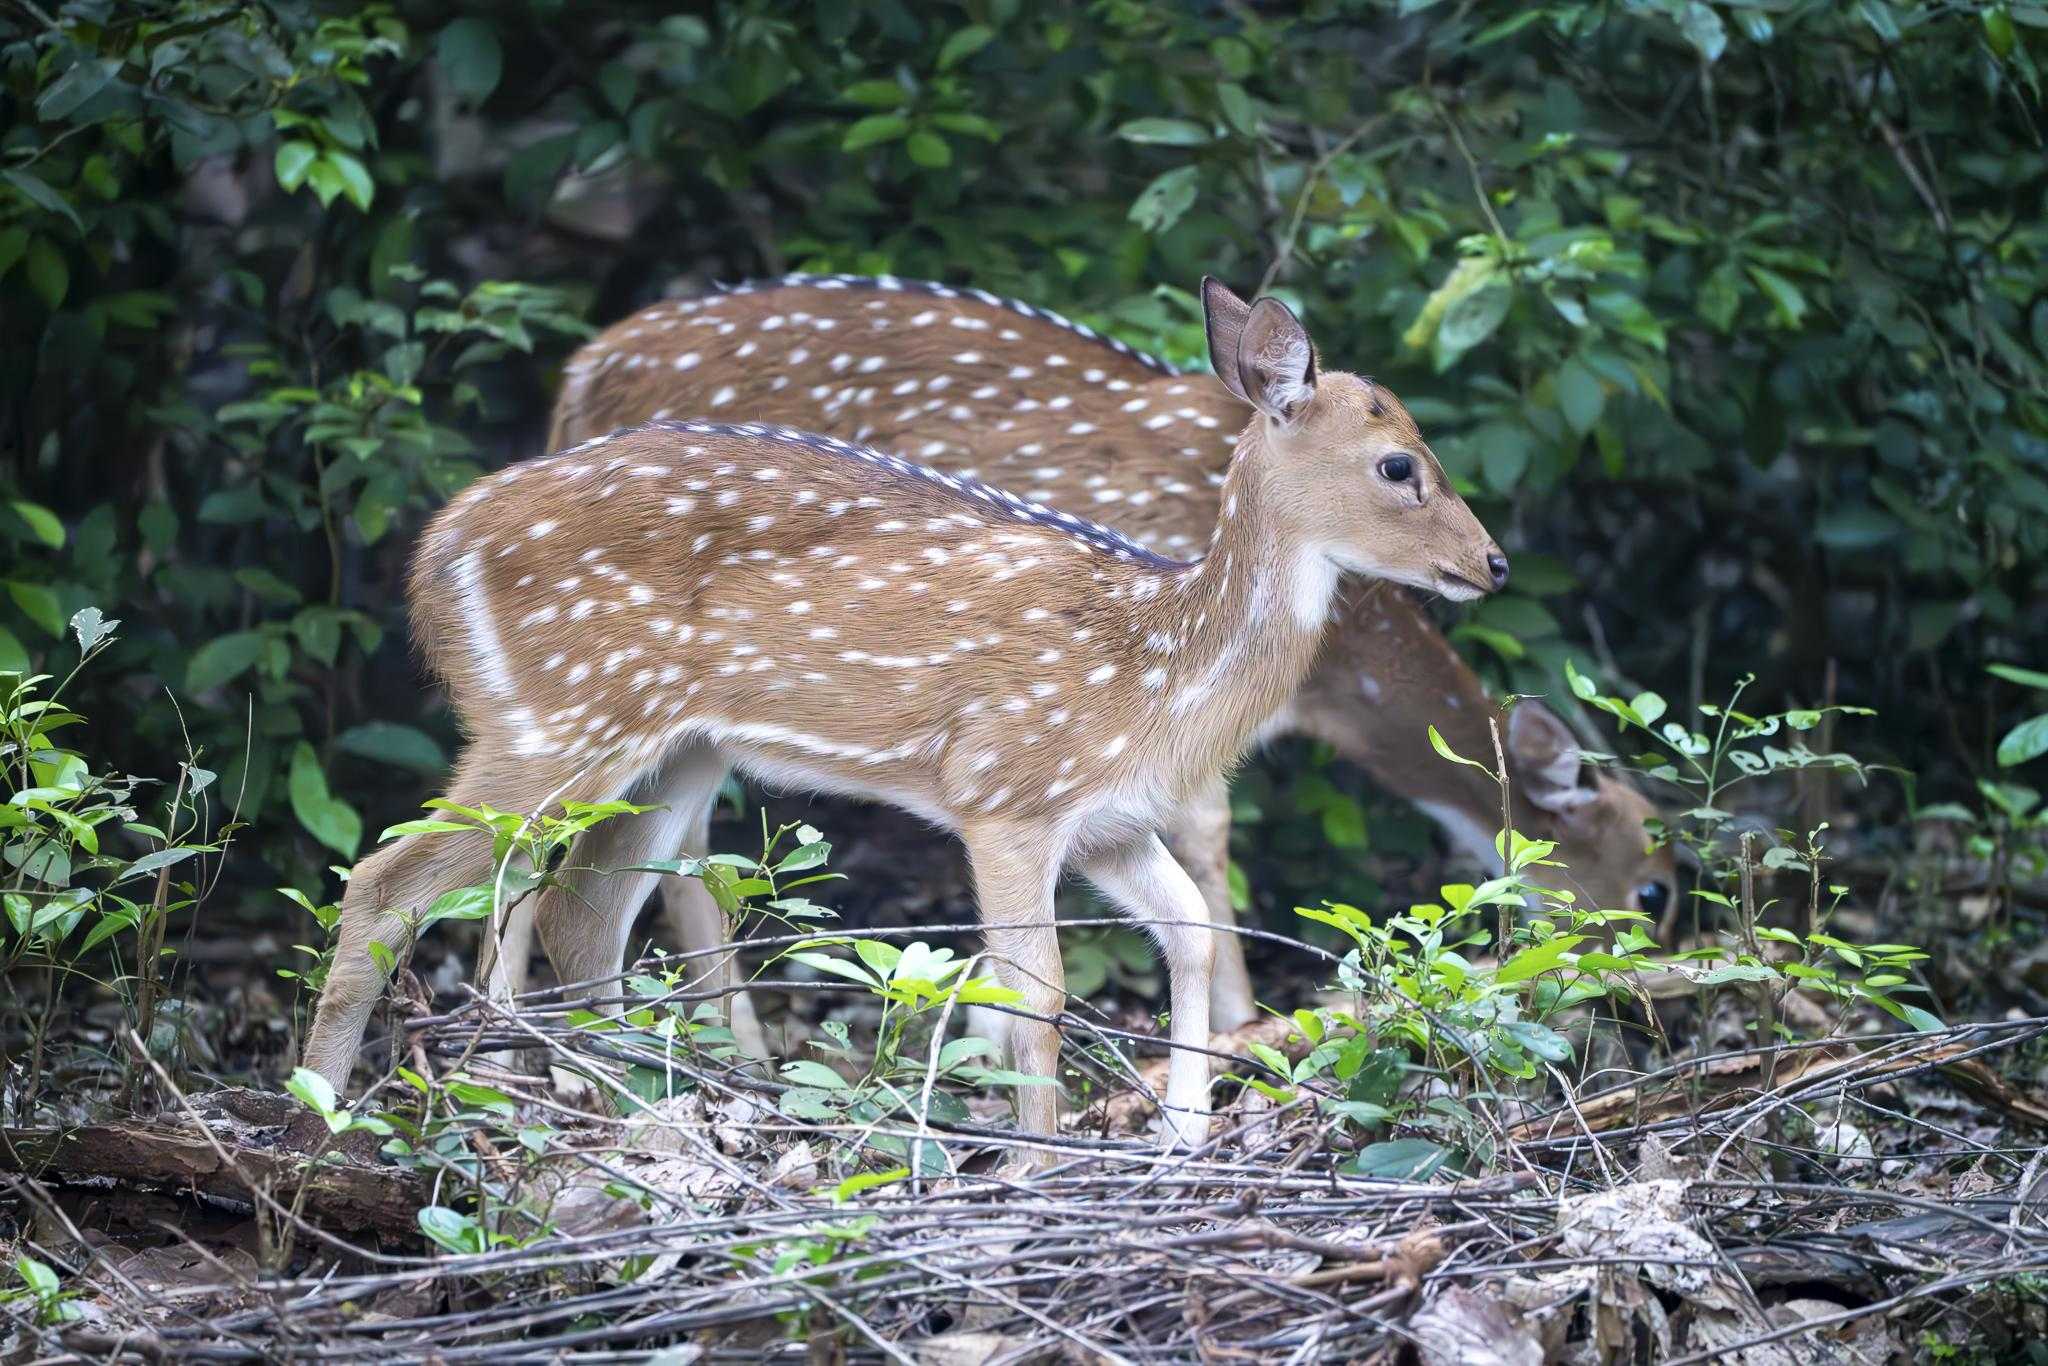Deer: (408, 293, 1507, 1143), (549, 274, 1250, 555)
